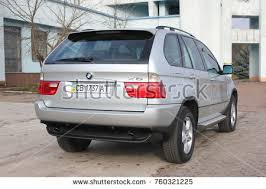car: (35, 25, 243, 165)
